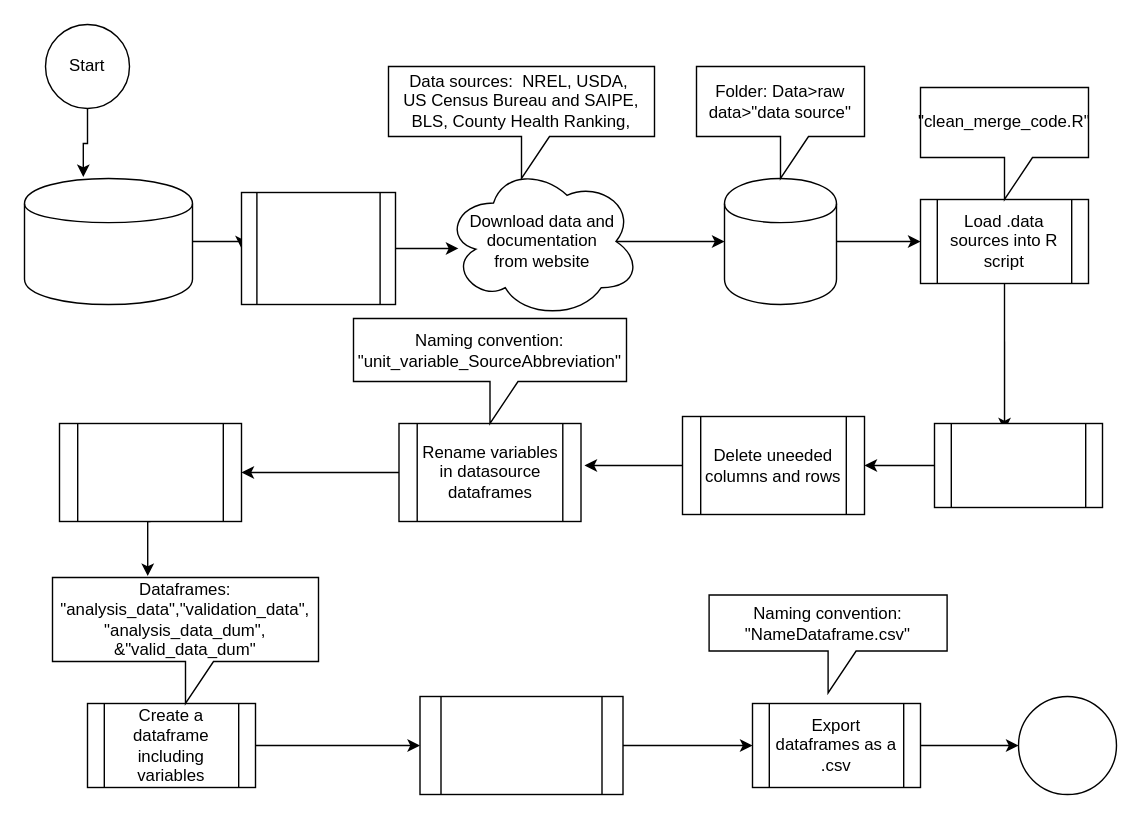
Image size: 1141x819. Some labels were removed from this diagram. The shapes that lost their labels are listed below. From the top down, each one's box as (x1, y1, x2, y2) in pixels, then its label:
(23, 177, 192, 304): Create Final Project Github Repository (desktop and remote)
(240, 191, 396, 304): Create R project file in repository to hold all R files
(723, 177, 836, 304): Save to Github Repository
(58, 422, 241, 522): Change continuous variables to datatype "numerical
(933, 422, 1102, 507): Create a dataframe for each data source
(419, 695, 623, 794): Check correlation between between variables in datasets
(1017, 695, 1116, 794): End
